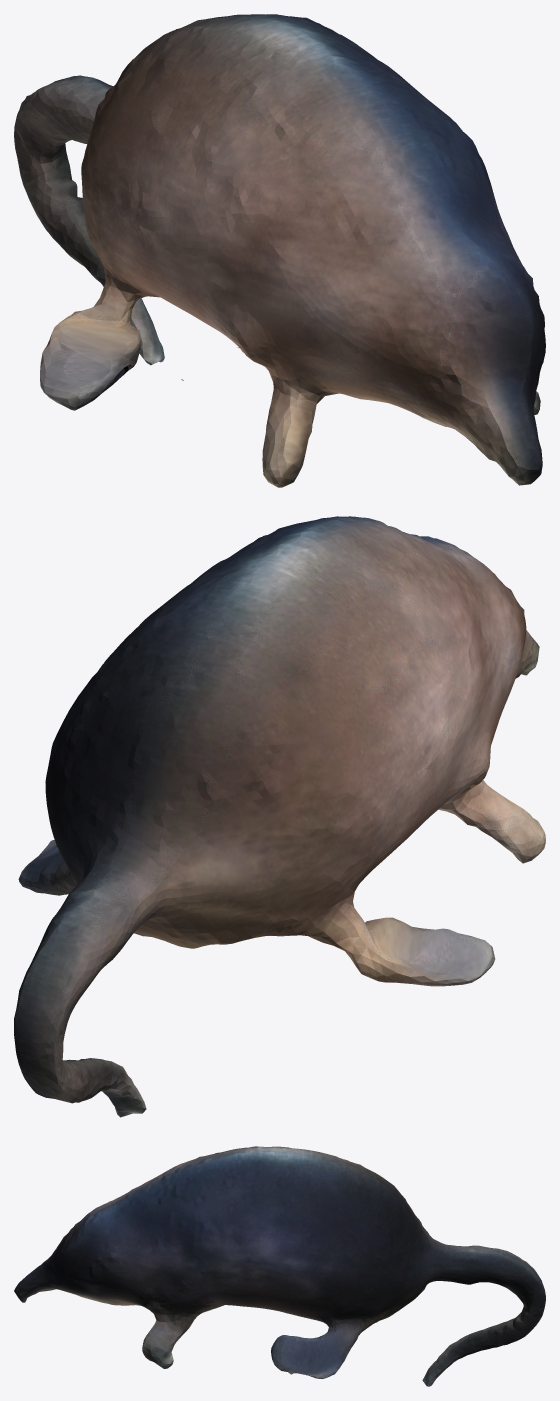
3 renders of one model, top to bottom at view 1: azimuth 30°, elevation 25°; view 2: azimuth 150°, elevation 25°; view 3: azimuth 270°, elevation 25°, orthographic. The views are drawn at different scales.
Visible parts, largest first — view 1: Mesh_0.095; view 2: Mesh_0.095; view 3: Mesh_0.095.
Boxes of the visible parts, box(x1,y1,x2,y2) form: Mesh_0.095: box(14, 14, 545, 487); Mesh_0.095: box(14, 516, 545, 1117); Mesh_0.095: box(14, 1146, 545, 1386).
Size of the model in its own units: 0.1753 by 0.1707 by 0.3515.
1 material, 1 textured.
